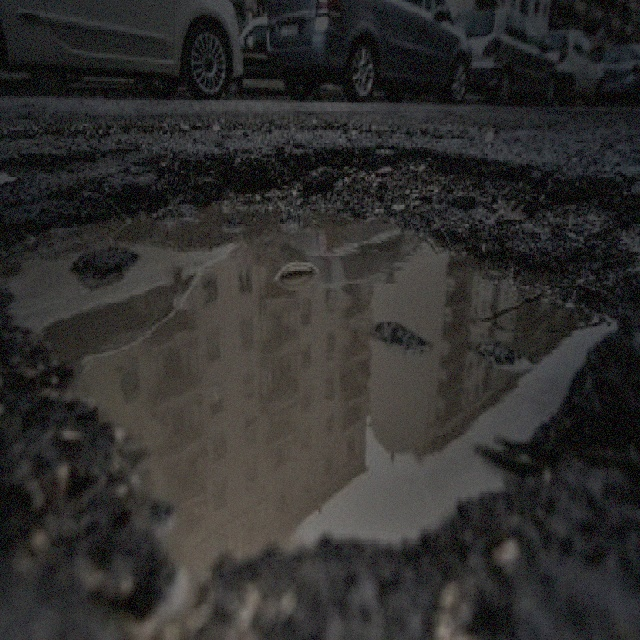pothole: (0, 130, 639, 595)
